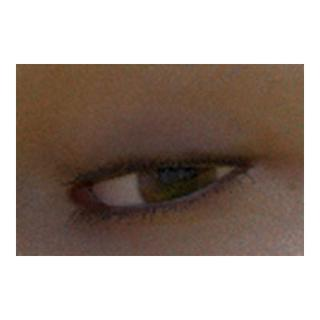pupil: (157, 159, 198, 199)
